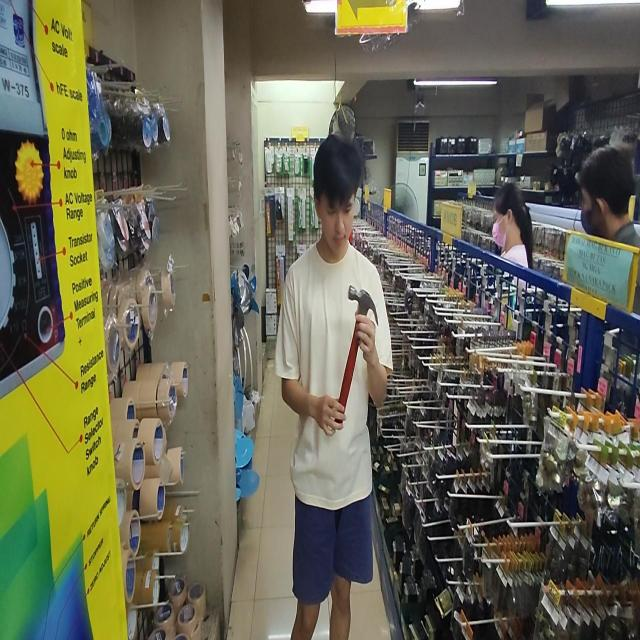hammer: (334, 286, 379, 426)
